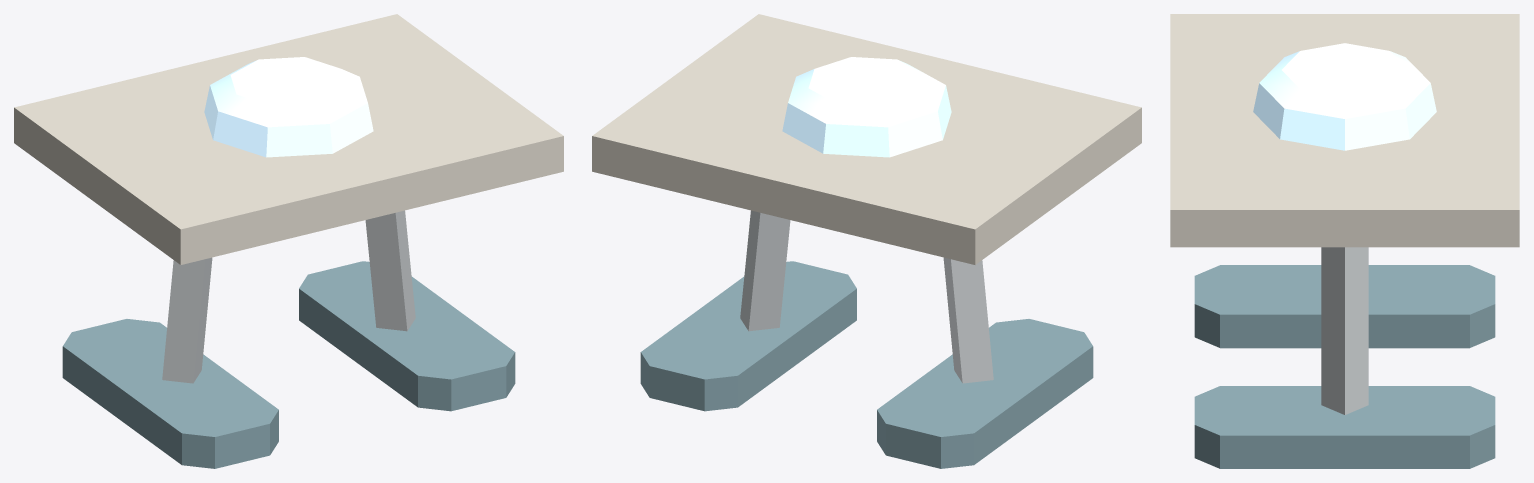
The model's file is prop_holo_briefing_table_v4_ShadowProxy.glb.
3 views of the same model, side by side, from view 1: azimuth 30°, elevation 25°; view 2: azimuth 150°, elevation 25°; view 3: azimuth 270°, elevation 25° (orthographic). The views are drawn at different scales.
Visible parts, largest first — view 1: prop_holo_briefing_table_v4_ShadowProxy / Primary assembly; view 2: prop_holo_briefing_table_v4_ShadowProxy / Primary assembly; view 3: prop_holo_briefing_table_v4_ShadowProxy / Primary assembly.
Boxes of the visible parts, x1,y1,x2,y2 form: prop_holo_briefing_table_v4_ShadowProxy / Primary assembly: (14,14,563,468); prop_holo_briefing_table_v4_ShadowProxy / Primary assembly: (592,14,1141,468); prop_holo_briefing_table_v4_ShadowProxy / Primary assembly: (1170,14,1519,468).
Size of the model in its own units: 1.46 by 1.09 by 1.1.
